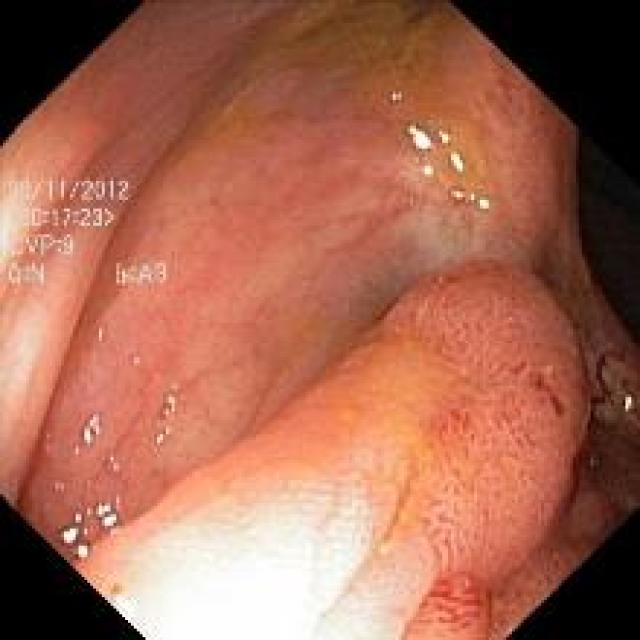Polyps: (78, 262, 591, 640)
